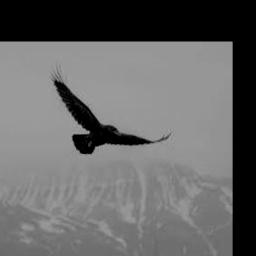Crow: (50, 63, 174, 155)
